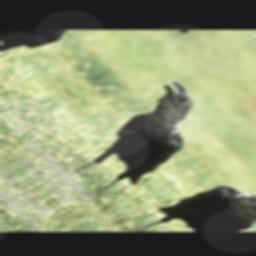Crow: (43, 74, 236, 205)
